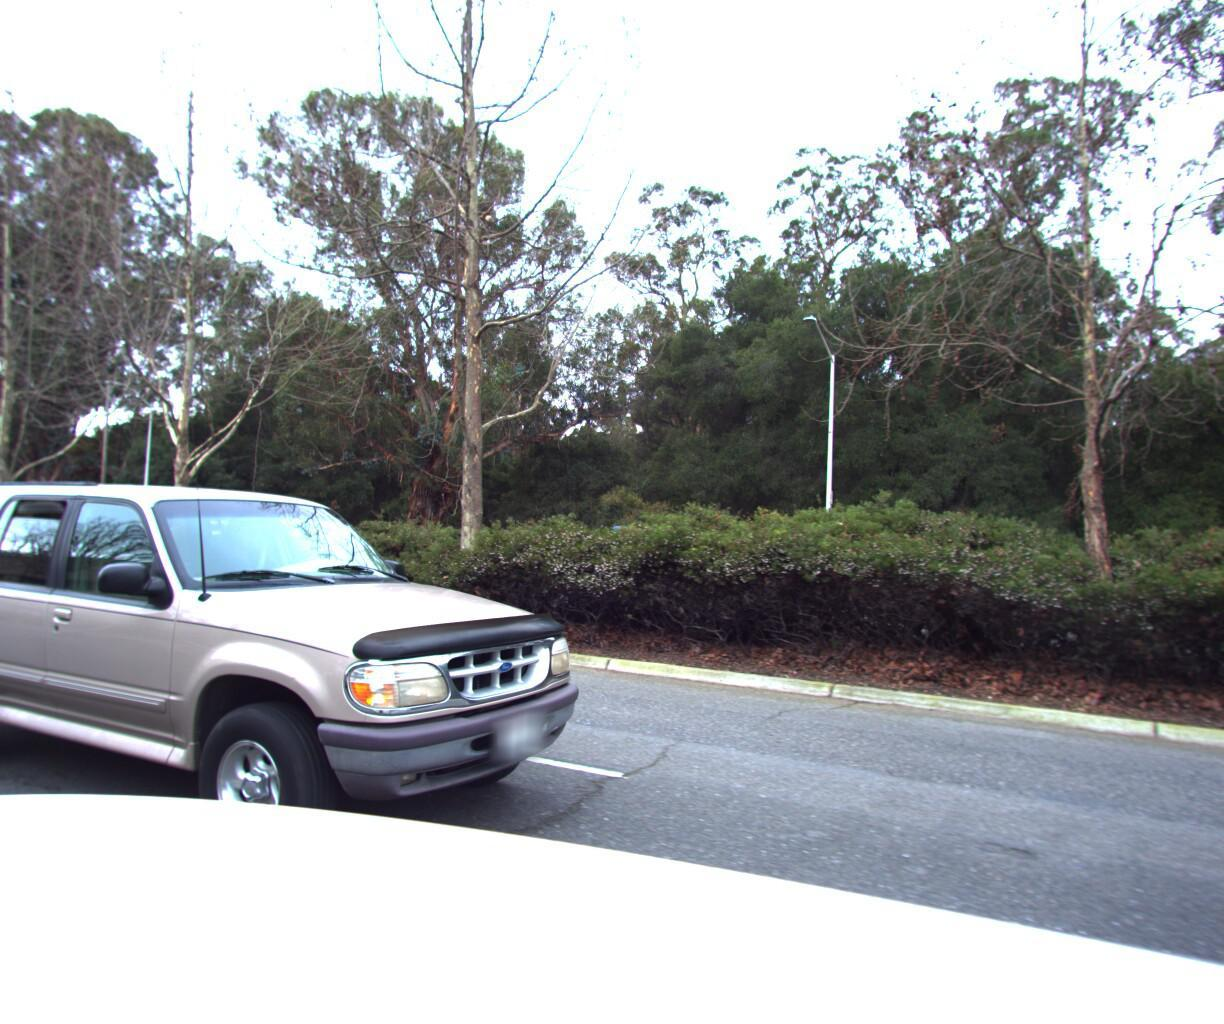car: (0, 462, 617, 943)
other_vehicle: (0, 491, 42, 552)
